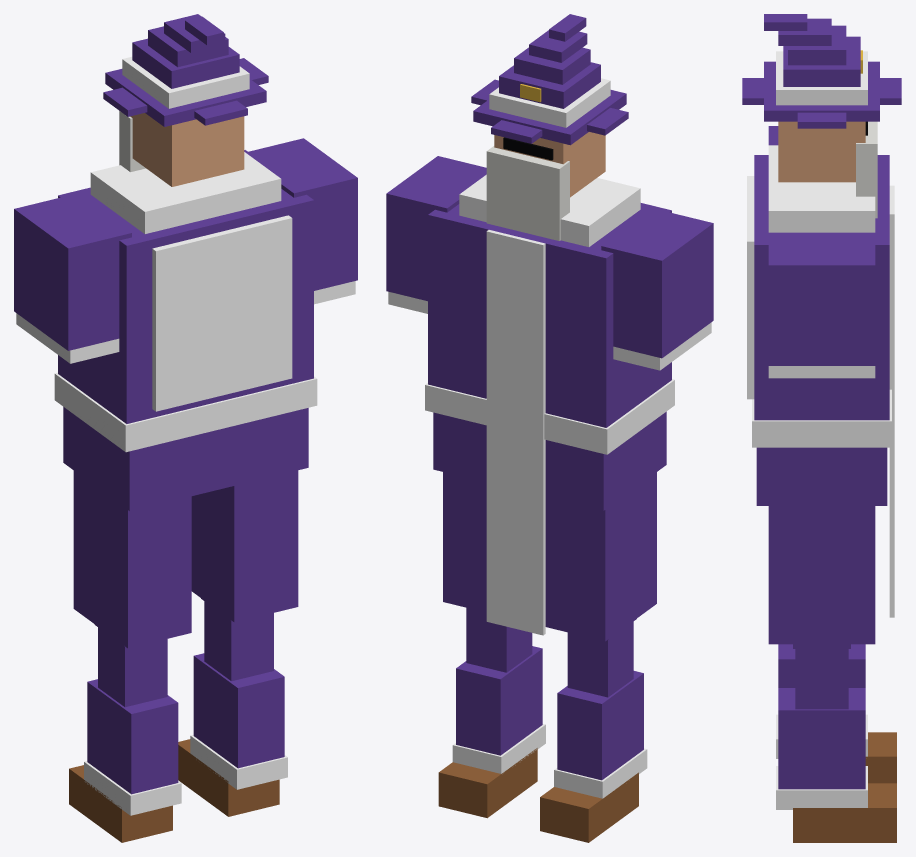
The model's file is WIZARD.gltf.
The picture shows the model from 3 angles, left to right: view 1: azimuth 30°, elevation 25°; view 2: azimuth 150°, elevation 25°; view 3: azimuth 270°, elevation 25°; orthographic projection. The views are drawn at different scales.
Visible parts, largest first — view 1: WIZARD; view 2: WIZARD; view 3: WIZARD.
Part boxes in pixels (x1,y1,x2,y2): WIZARD: (14,14,357,842); WIZARD: (386,14,713,842); WIZARD: (742,14,901,842).
Bounding box in the file's own units: 0.68 × 1.79 × 0.33.
